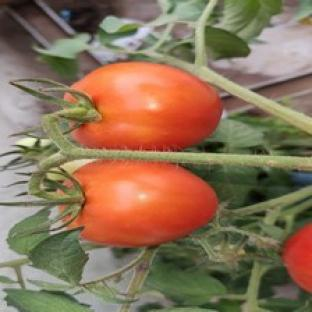Tomato: (72, 62, 222, 150), (69, 161, 218, 246), (283, 225, 311, 292)
